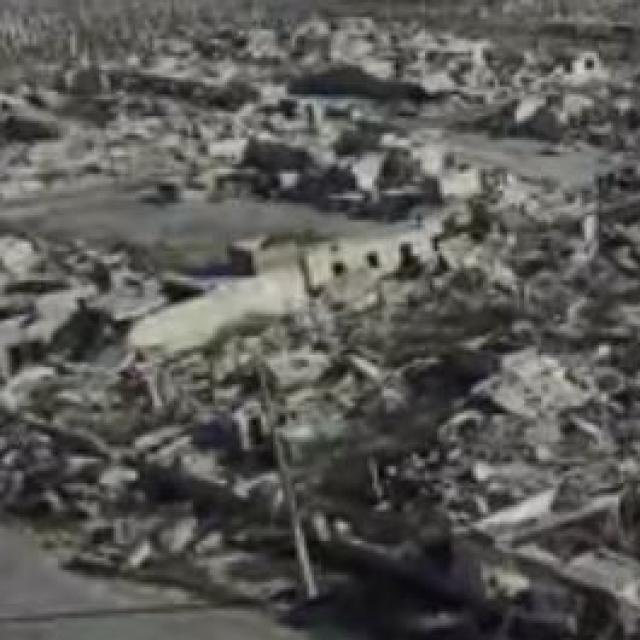collapsed_building: (0, 244, 638, 604), (94, 68, 430, 230), (244, 19, 638, 150)
